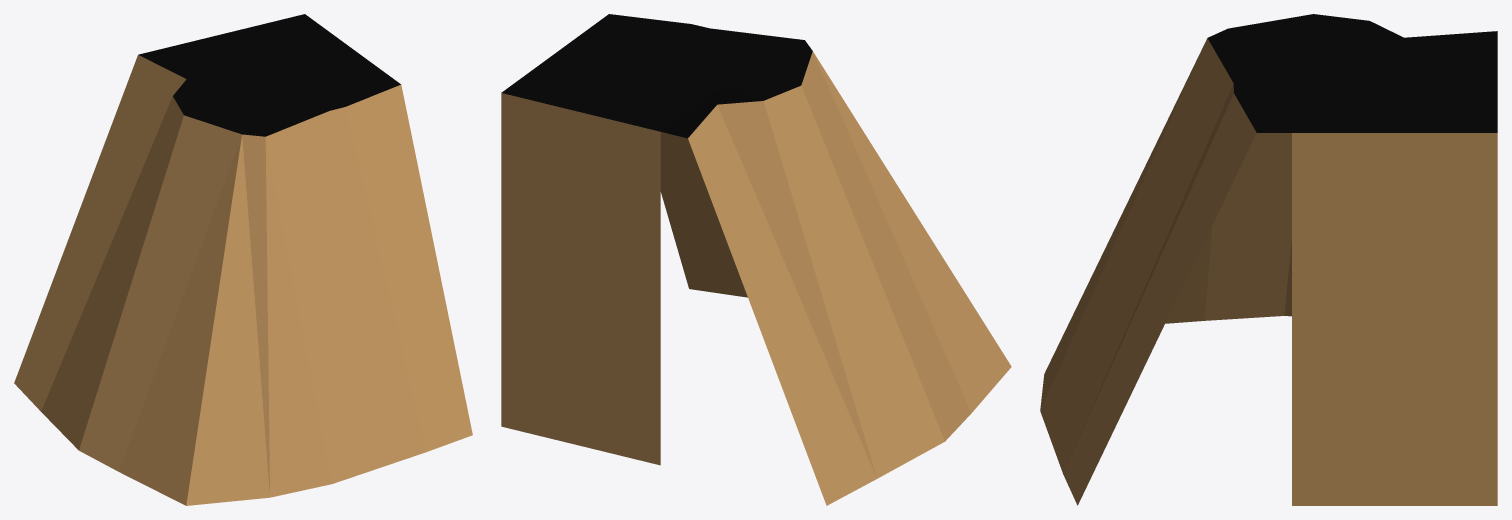
The model's file is Model_Desert_Slope_2STR_CS.fbx.
The picture shows the model from 3 angles, left to right: view 1: azimuth 30°, elevation 25°; view 2: azimuth 150°, elevation 25°; view 3: azimuth 270°, elevation 25°; orthographic projection. The views are drawn at different scales.
Visible parts, largest first — view 1: Model_Frost_Obstacle4; view 2: Model_Frost_Obstacle4; view 3: Model_Frost_Obstacle4.
Part boxes in pixels (<box>): Model_Frost_Obstacle4: <box>14,14,472,505</box>; Model_Frost_Obstacle4: <box>501,14,1011,505</box>; Model_Frost_Obstacle4: <box>1040,14,1497,505</box>.
Size of the model in its own units: 219 by 200 by 222.
2 materials, 1 textured.
